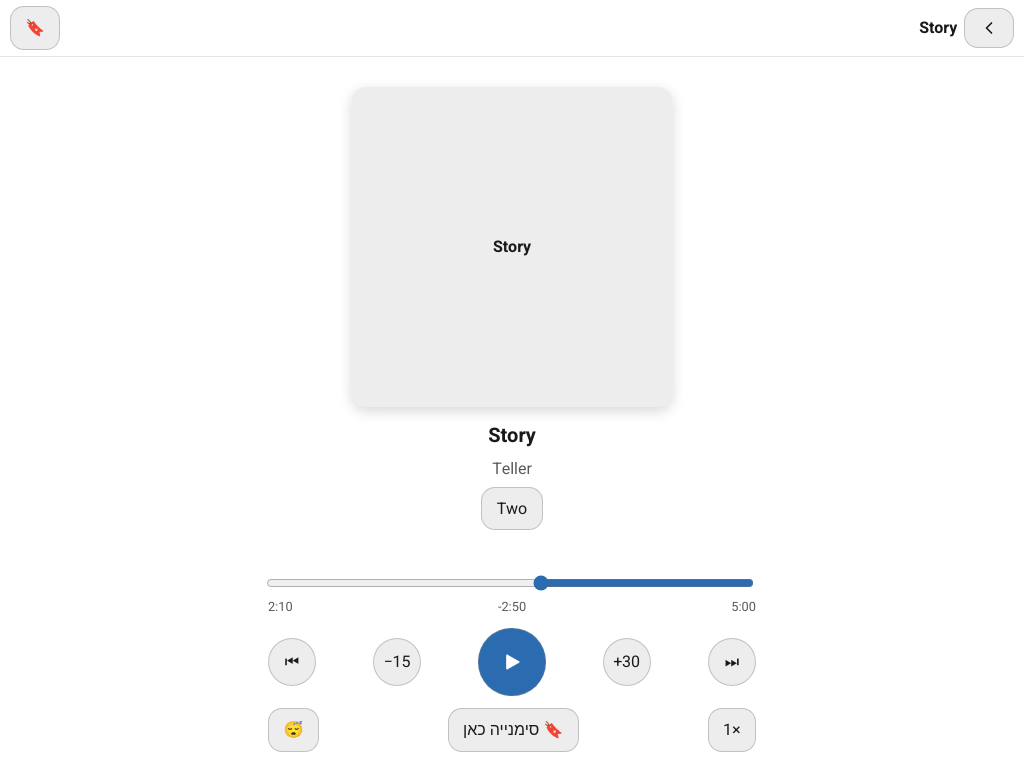
Test: AudioPlayer › adds a bookmark with the time and chapter, saves it, and deletes it again
Expected: the button named "נגן" is shown, [478,628,546,696]
Click the button "🔖 סימנייה כאן" at [513, 730], box [448,708,579,752]
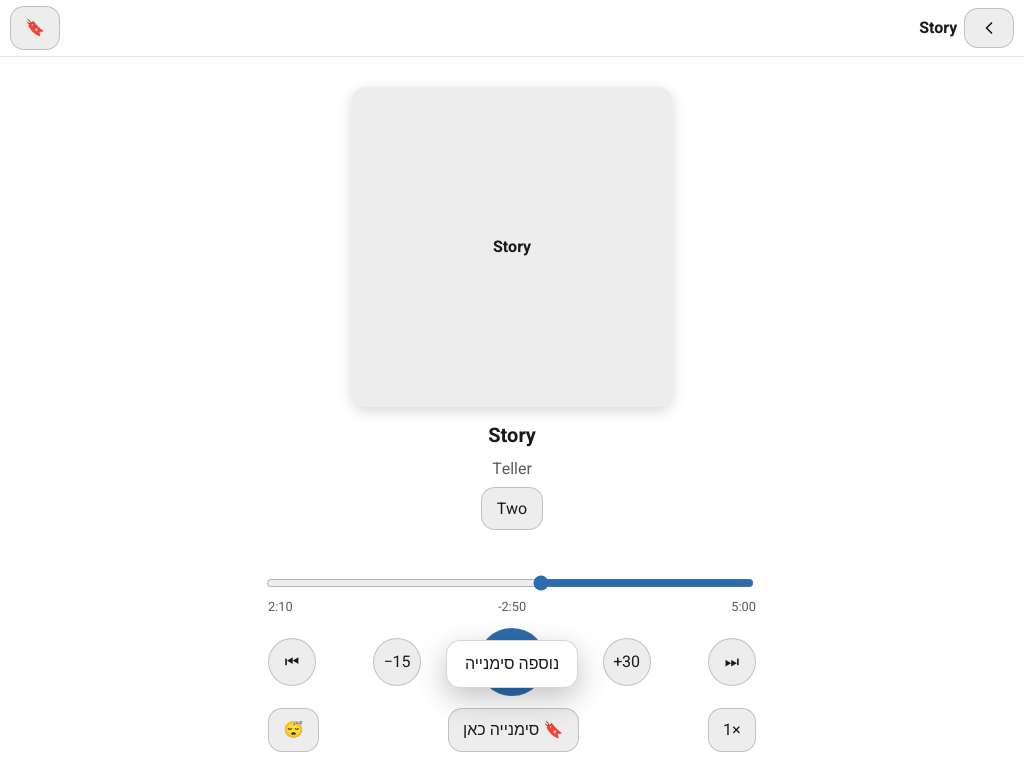
Click the button named "סימניות" at [35, 28], box [10,6,60,50]
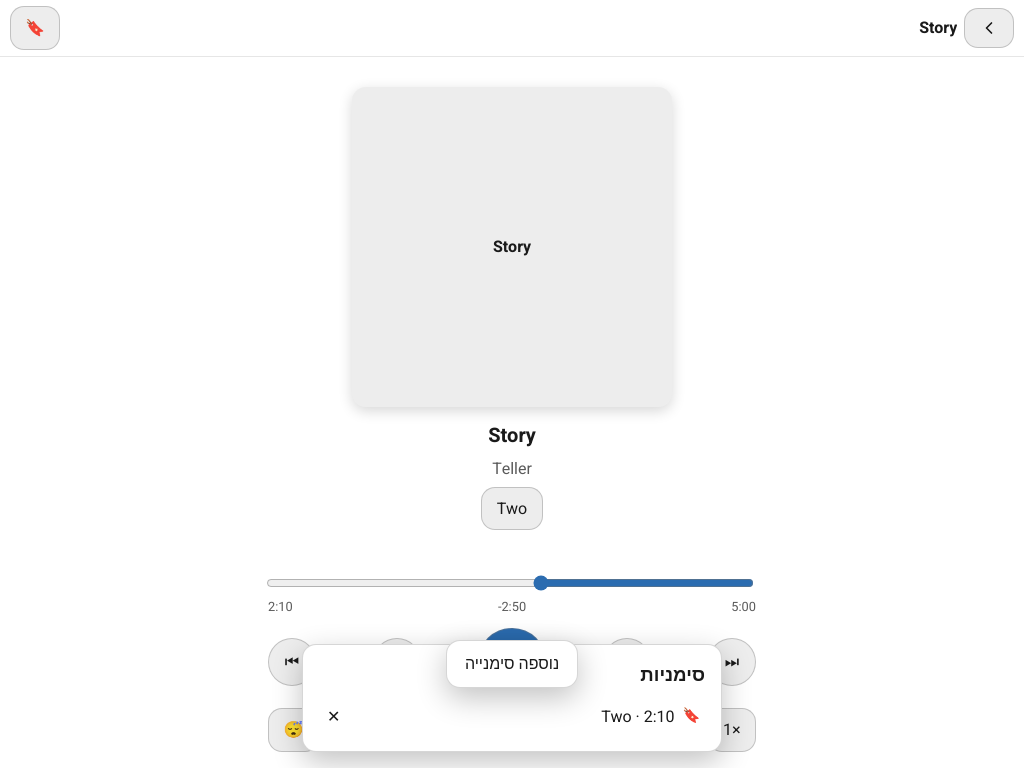
Click the button named "מחק" at [334, 717], box [319,698,348,735]
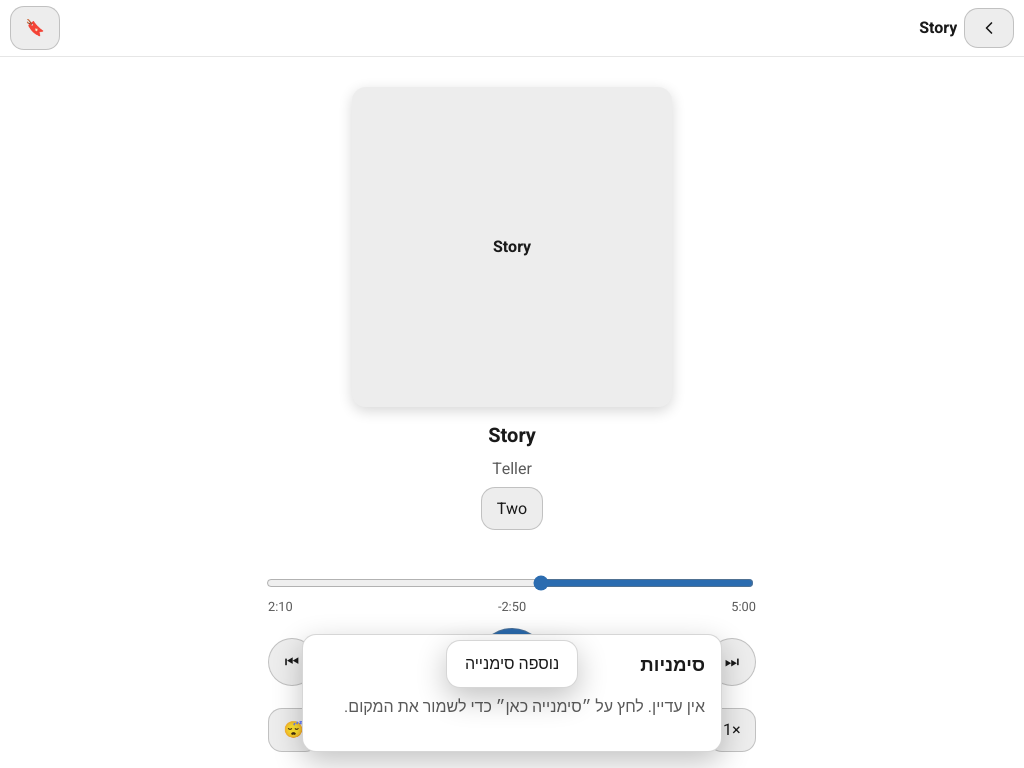
Expected: the text "אין עדיין. לחץ על ״סימנייה כאן״ כדי לשמור את המקום." is shown, [319,695,705,719]
